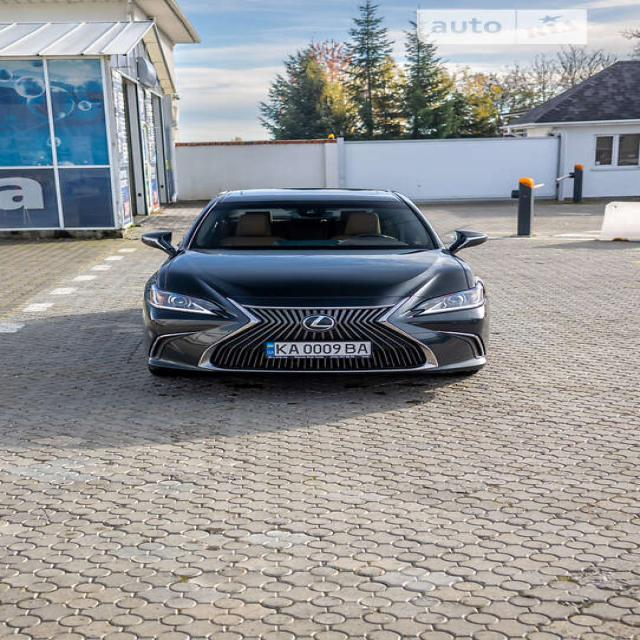plate: (262, 336, 386, 364)
